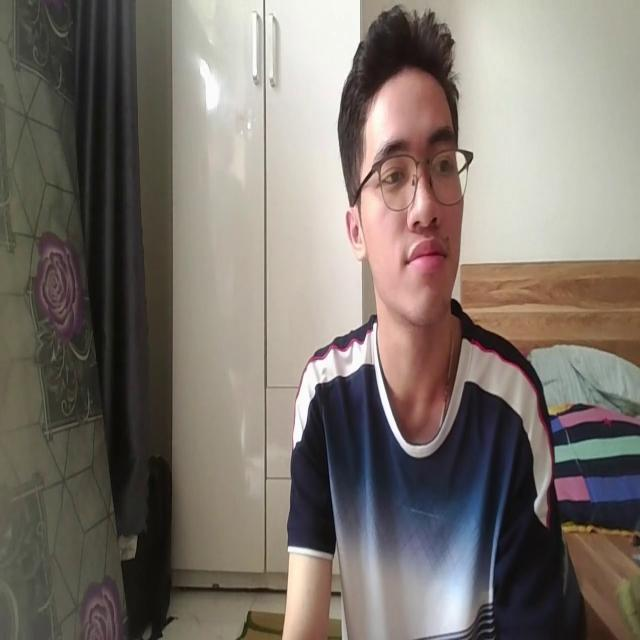student: (286, 6, 560, 640)
